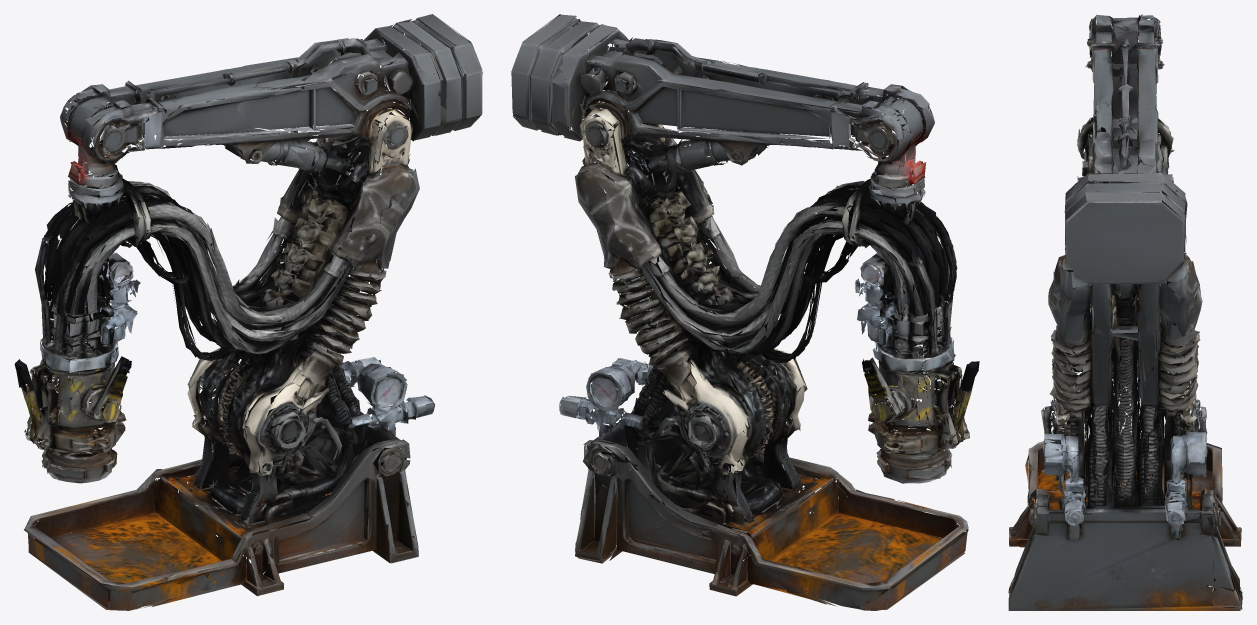
Rendered from evac_preflight_fuel_umbilical.glb.
The picture shows the model from 3 angles, left to right: view 1: azimuth 30°, elevation 25°; view 2: azimuth 150°, elevation 25°; view 3: azimuth 270°, elevation 25°; orthographic projection.
Parts seen in each view (by area): view 1: node_0; view 2: node_0; view 3: node_0.
Boxes of the visible parts, x1=… form: node_0: x1=14, y1=14, x2=482, y2=610; node_0: x1=511, y1=14, x2=979, y2=610; node_0: x1=1008, y1=14, x2=1242, y2=610.
Size of the model in its own units: 0.8544 by 0.8978 by 0.405.
1 material, 1 textured.
